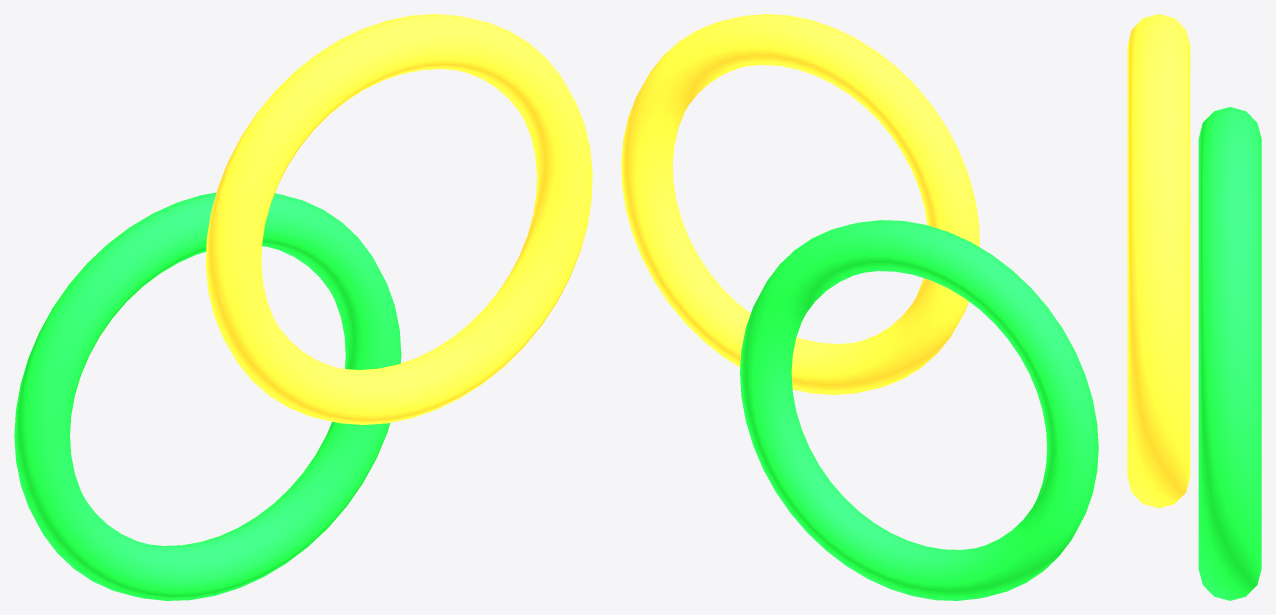
The model's file is CELO.glb.
3 views of the same model, side by side, from view 1: azimuth 30°, elevation 25°; view 2: azimuth 150°, elevation 25°; view 3: azimuth 270°, elevation 25° (orthographic). The views are drawn at different scales.
Visible parts, largest first — view 1: YELLOW_RING, GREEN_RING; view 2: GREEN_RING, YELLOW_RING; view 3: YELLOW_RING, GREEN_RING.
Part boxes in pixels (x1,y1,x2,y2): YELLOW_RING: (205, 14, 592, 424); GREEN_RING: (14, 192, 401, 600); GREEN_RING: (740, 220, 1098, 600); YELLOW_RING: (621, 14, 979, 394); YELLOW_RING: (1127, 14, 1190, 508); GREEN_RING: (1198, 107, 1261, 600).
Size of the model in its own units: 0.7104 by 0.7015 by 0.1356.
